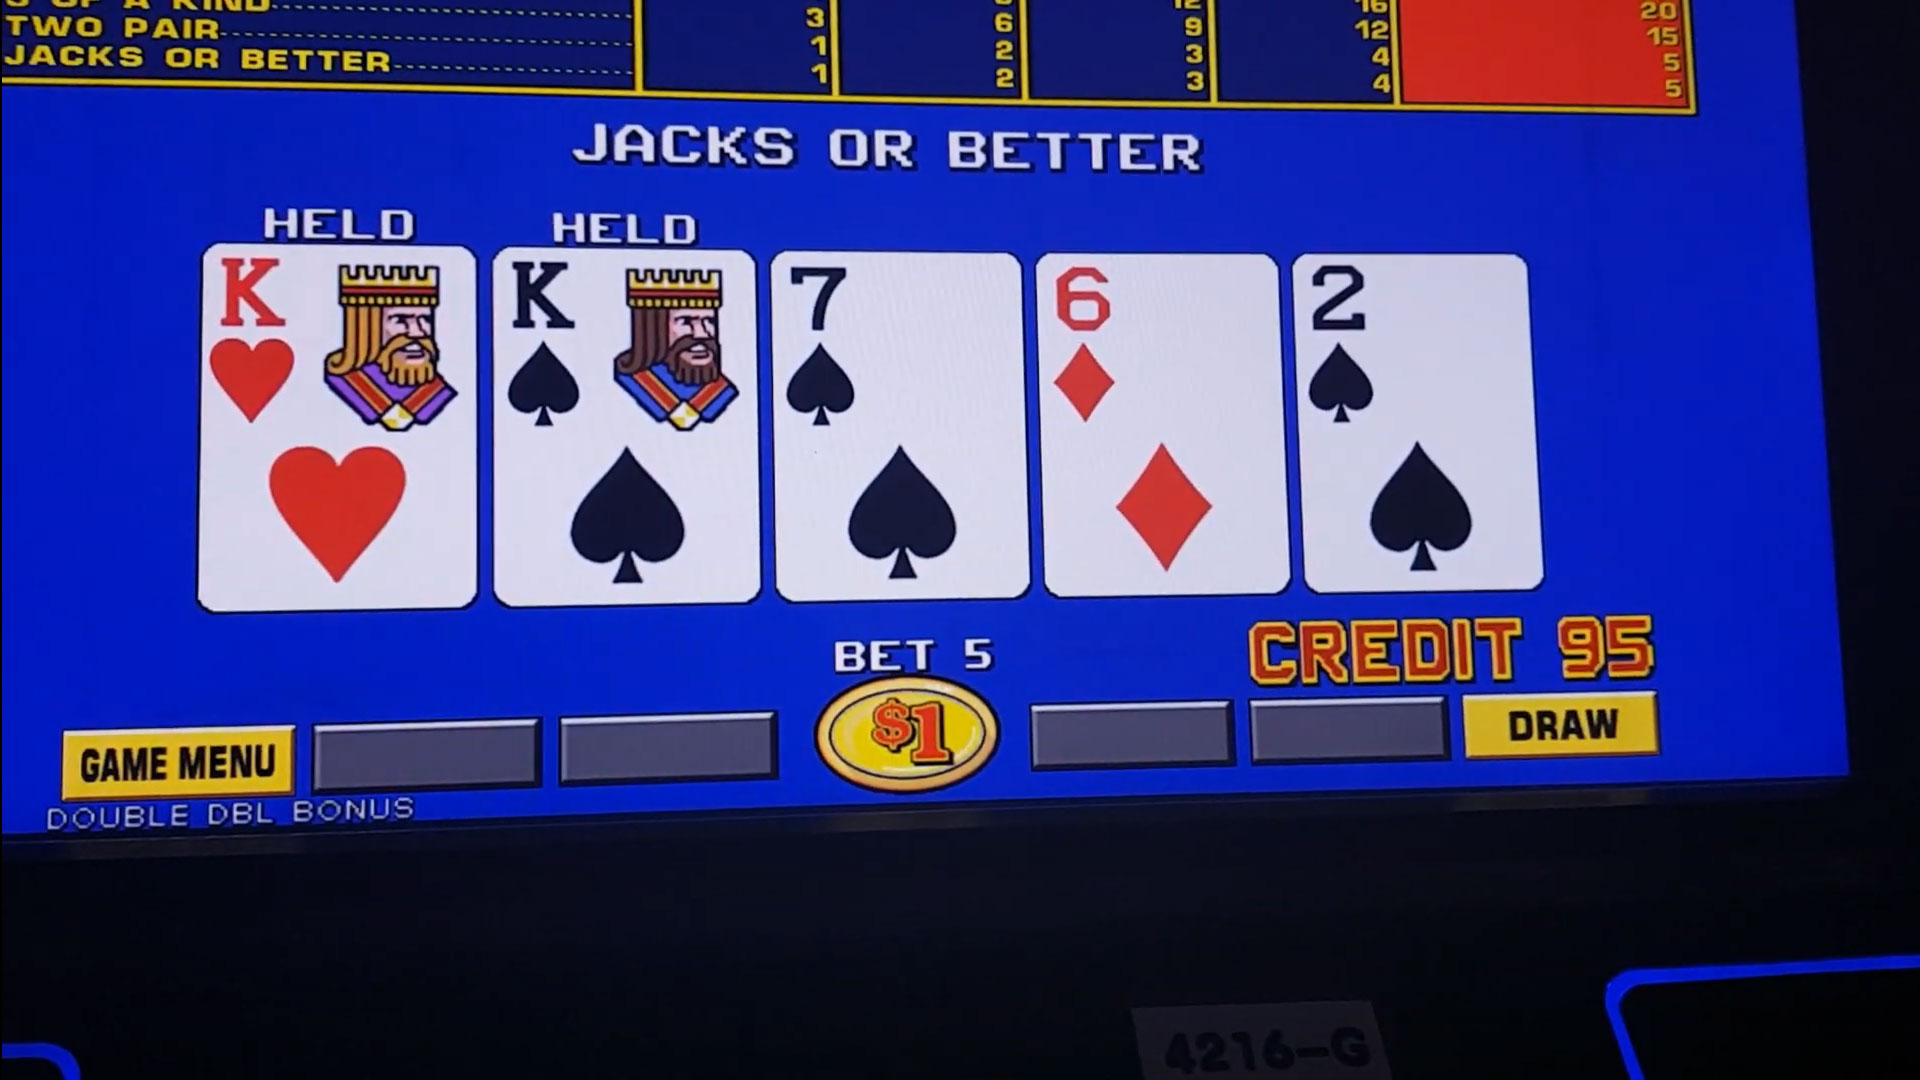D6: (1042, 255, 1273, 438)
HK: (206, 248, 472, 436)
S2: (1302, 258, 1520, 429)
S7: (775, 249, 1015, 440)
SK: (497, 245, 752, 440)
